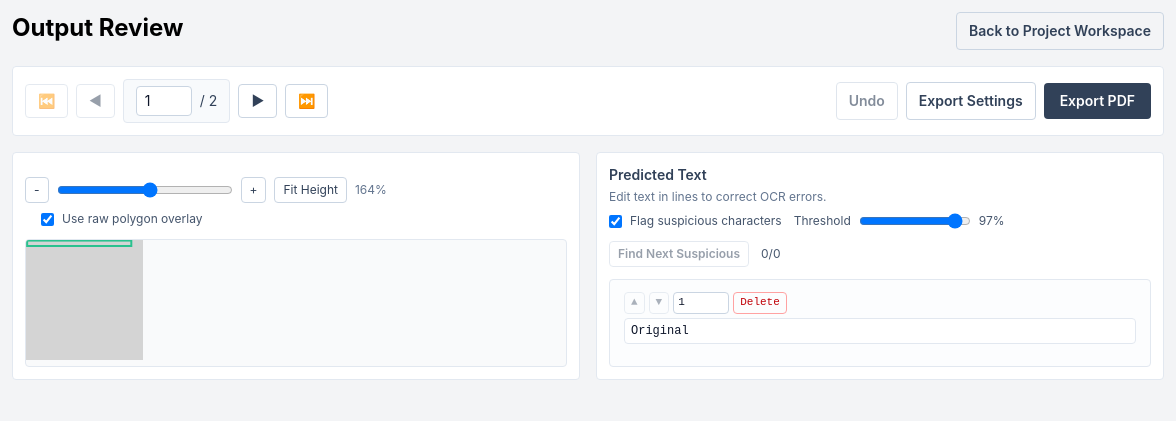
Test: review screen workflows › flushes the latest correction when Export PDF is clicked immediately
Replace the text in the text box with "Newest text". click: (880, 331)
box: [624, 318, 1136, 344]
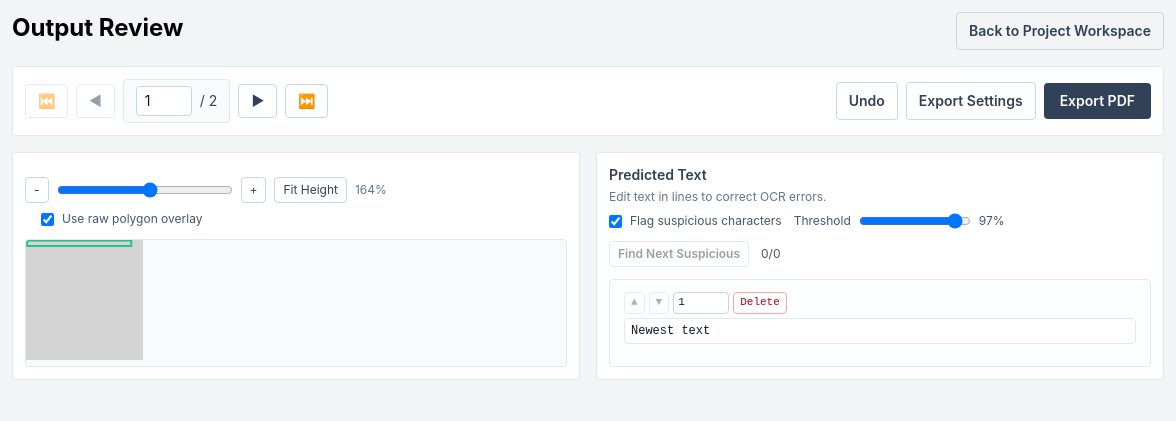
Click the button "Export PDF". click: (1097, 101)
box: [1044, 83, 1151, 119]
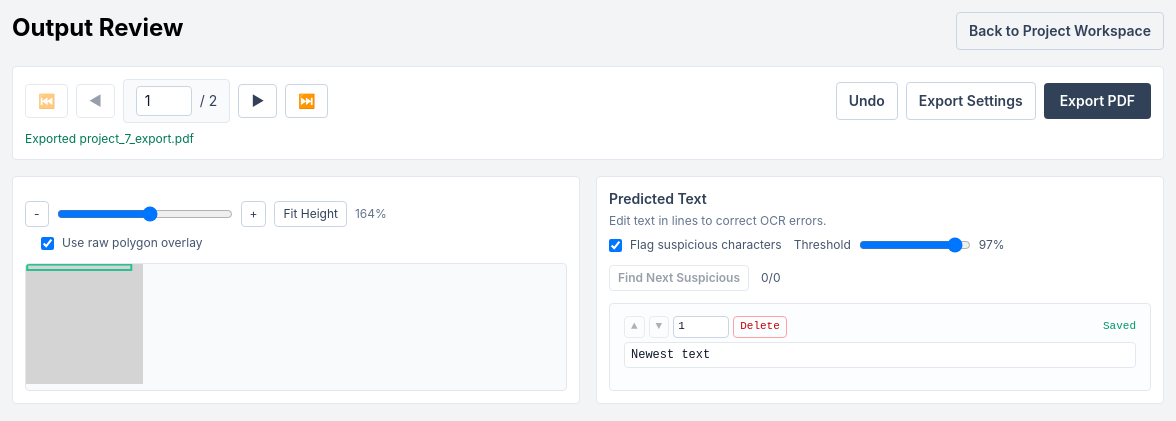
expect the text "Exported" is shown: met, box [25, 131, 194, 146]
